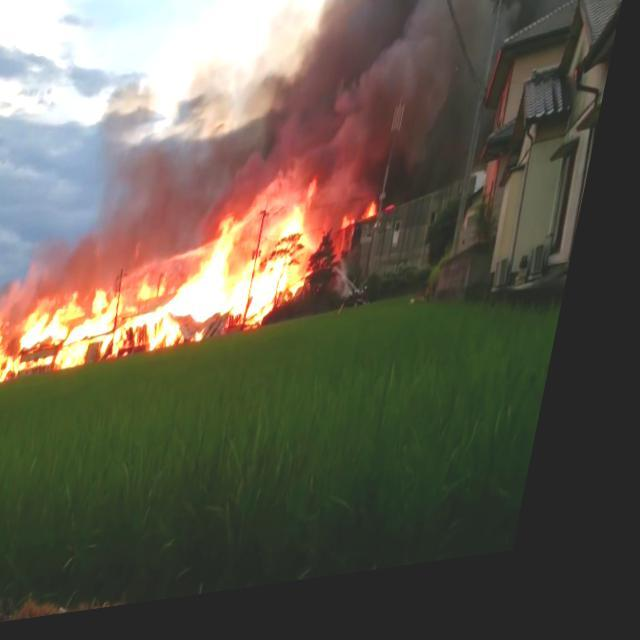Fire: (0, 190, 337, 390), (372, 212, 391, 235), (353, 224, 368, 241)
